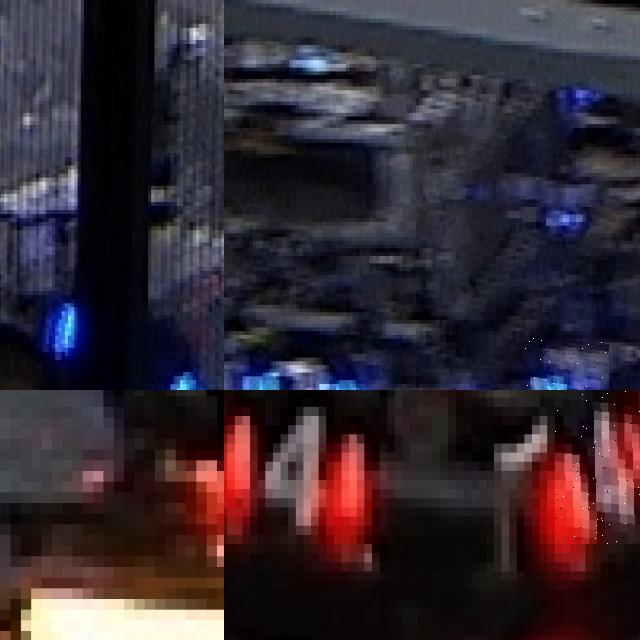B2: (229, 346, 359, 390), (522, 334, 609, 390)
R4: (224, 397, 372, 544), (555, 390, 640, 544)
